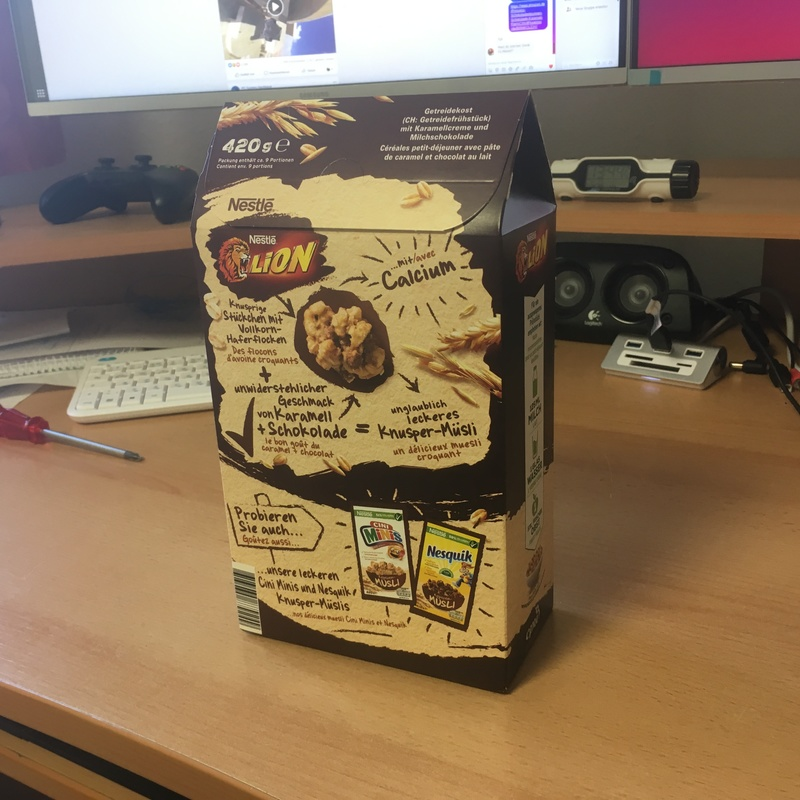cereals: (191, 92, 556, 696)
